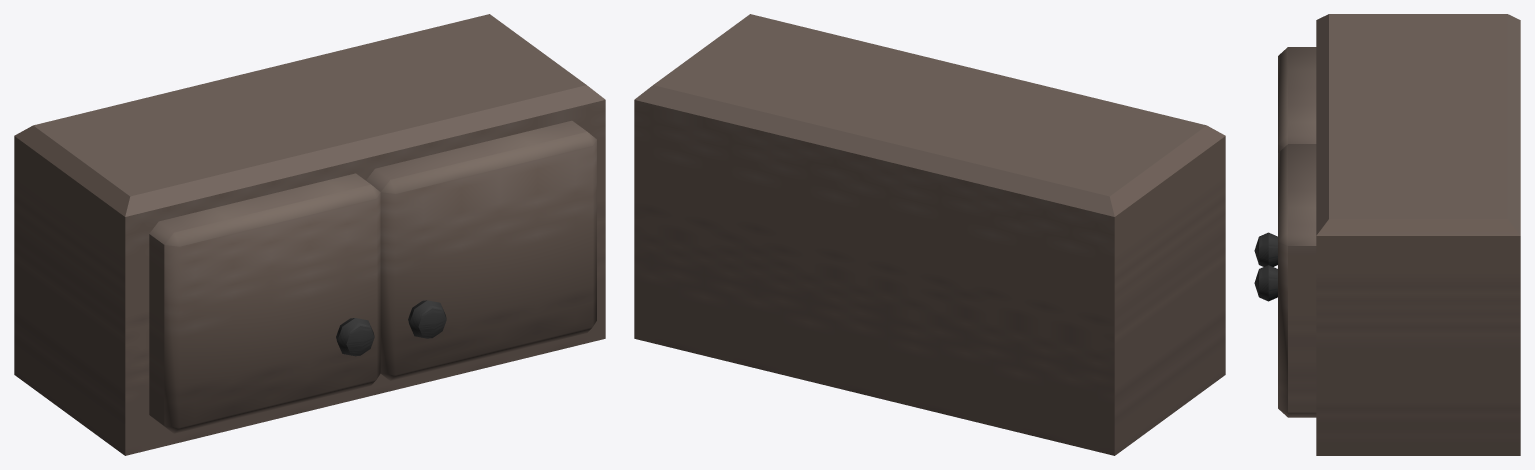
File: kitchencabinet_half_styleB.gltf
The picture shows the model from 3 angles, left to right: view 1: azimuth 30°, elevation 25°; view 2: azimuth 150°, elevation 25°; view 3: azimuth 270°, elevation 25°; orthographic projection. The views are drawn at different scales.
Visible parts, largest first — view 1: kitchencabinet_half_styleB; view 2: kitchencabinet_half_styleB; view 3: kitchencabinet_half_styleB.
Boxes of the visible parts, bbox=[...] form: kitchencabinet_half_styleB: bbox=[14, 14, 605, 455]; kitchencabinet_half_styleB: bbox=[634, 14, 1225, 455]; kitchencabinet_half_styleB: bbox=[1254, 14, 1520, 455].
Bounding box in the file's own units: 2 × 1 × 1.04.
1 material, 1 textured.
